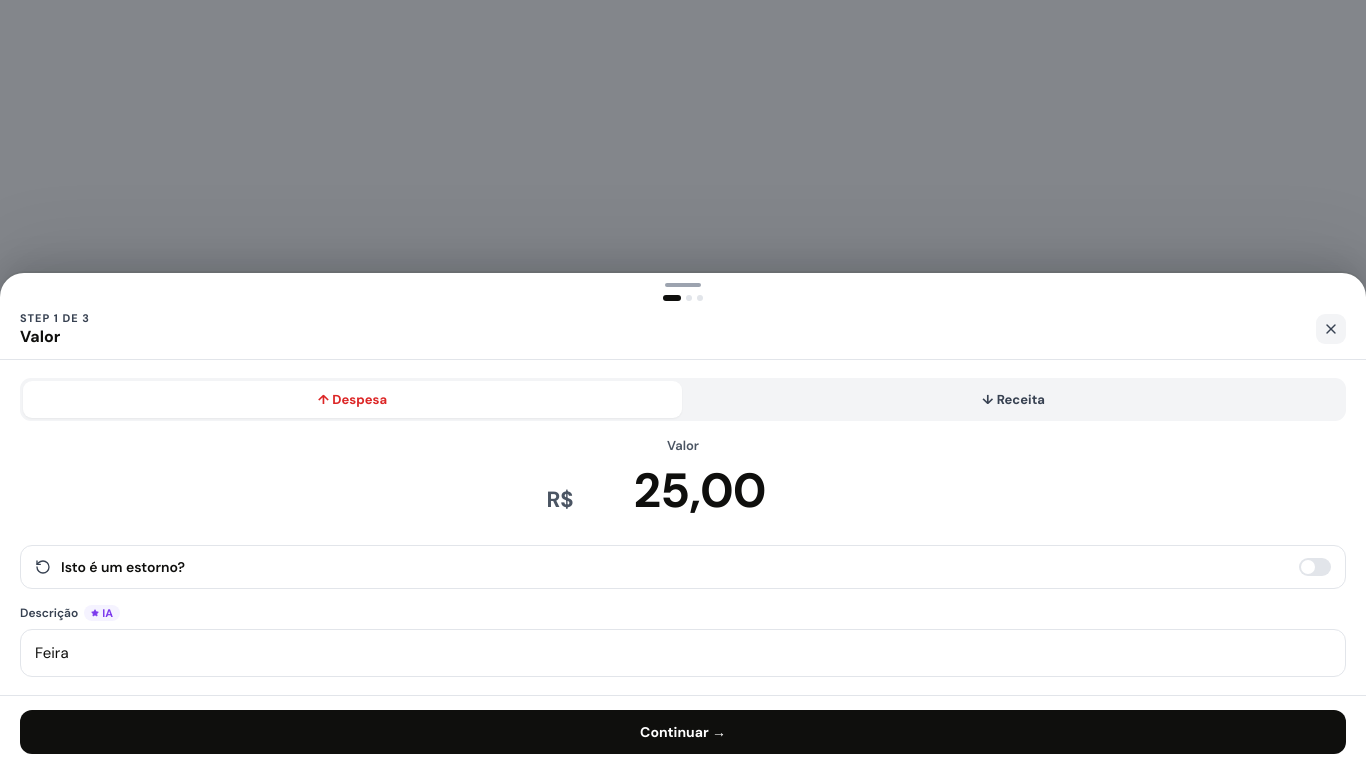
Scenario: NovaTransacaoModal — editar lançamento de categoria apagada › no celular, o passo Detalhes mostra a categoria apagada como chip selecionado e 'indisponível'
Click the button "Continuar →" at (683, 732), box left=20, top=710, right=1346, bottom=754
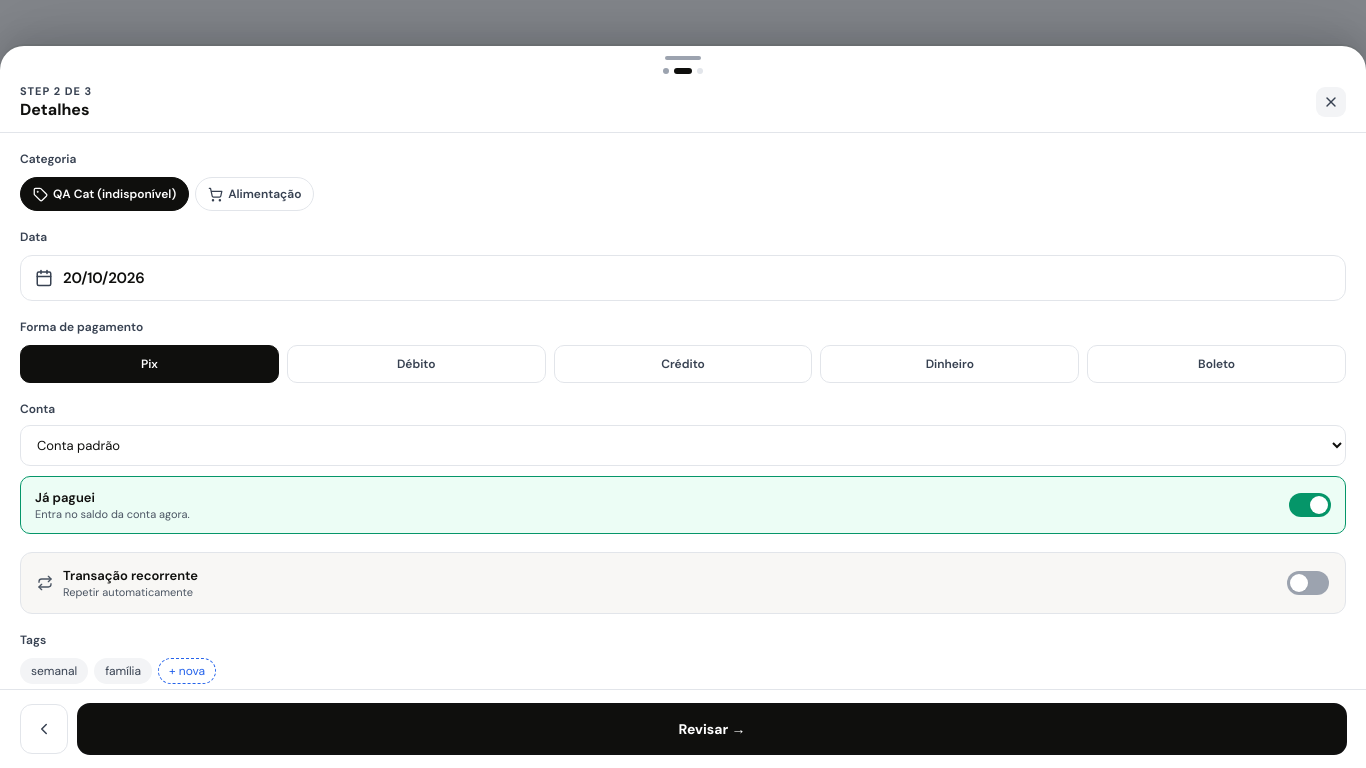
Expected: the button "QA Cat (indisponível)" is shown, left=20, top=177, right=189, bottom=211
